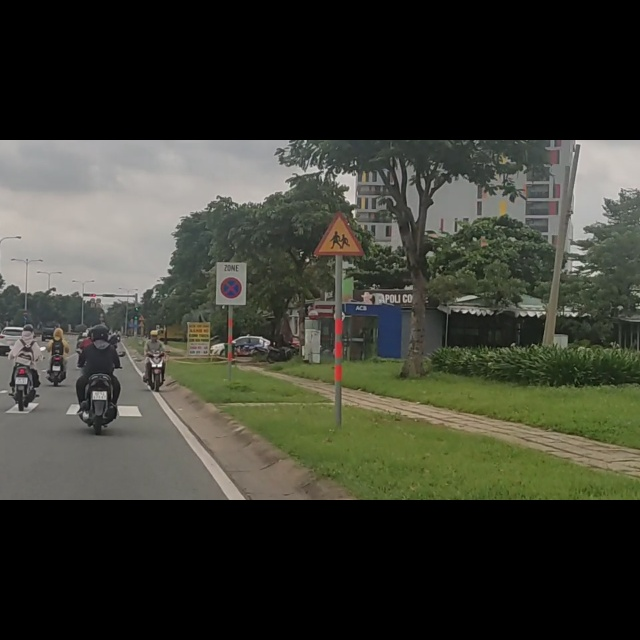bien_cam: (314, 127, 366, 206), (221, 243, 243, 280), (22, 302, 28, 312), (23, 313, 28, 321)
